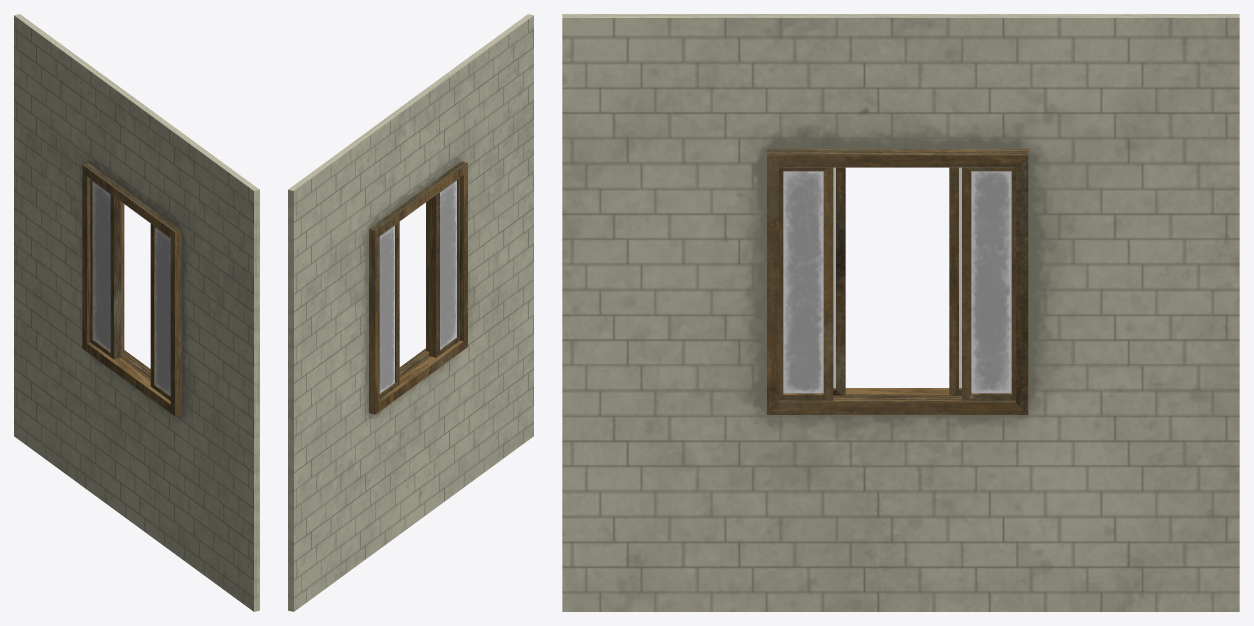
The model's file is Drive Thru Window.glb.
The picture shows the model from 3 angles, left to right: view 1: azimuth 30°, elevation 25°; view 2: azimuth 150°, elevation 25°; view 3: azimuth 270°, elevation 25°; orthographic projection. The views are drawn at different scales.
Visible parts, largest first — view 1: Kitchen Wall.001 (×2); view 2: Kitchen Wall.001 (×2); view 3: Kitchen Wall.001 (×2).
Part boxes in pixels (x1=…): Kitchen Wall.001 (×2): x1=14, y1=14, x2=259, y2=611; Kitchen Wall.001 (×2): x1=288, y1=14, x2=533, y2=611; Kitchen Wall.001 (×2): x1=562, y1=14, x2=1239, y2=611.
Bounding box in the file's own units: 0.4112 × 7.74 × 8.
Materials: 2 (2 with a texture image).
